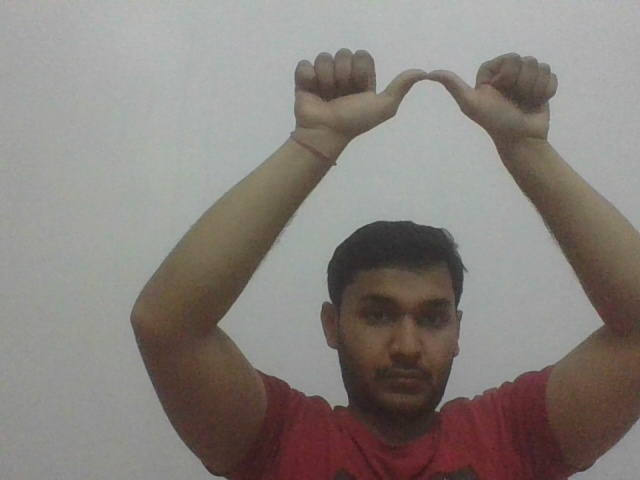A: (287, 45, 566, 138)
